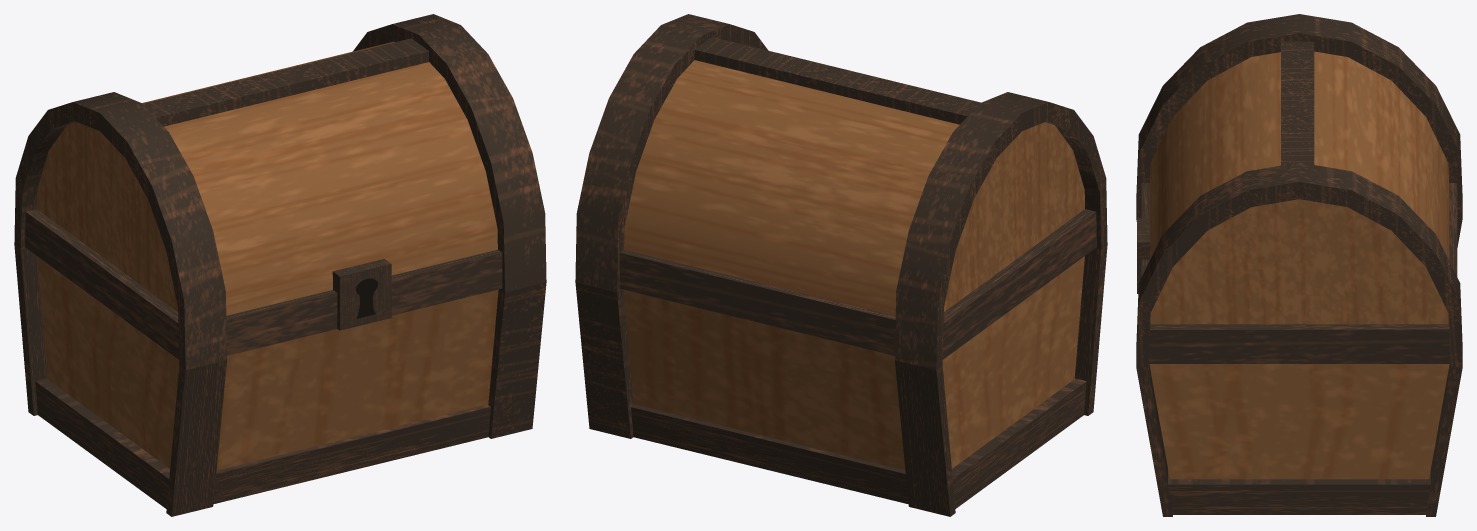
The model's file is Chest.fbx.
3 views of the same model, side by side, from view 1: azimuth 30°, elevation 25°; view 2: azimuth 150°, elevation 25°; view 3: azimuth 270°, elevation 25° (orthographic). The views are drawn at different scales.
Parts seen in each view (by area): view 1: box_top, box_bott, sideBeam_top1, beam_mid, sideBeam_top2, beam_bott, sideBeam1, beam_top, side_Beam2, lock; view 2: box_top, box_bott, beam_mid, sideBeam_top1, sideBeam_top2, beam_bott, sideBeam1, beam_top, side_Beam2; view 3: box_top, box_bott, sideBeam_top2, sideBeam_top1, beam_mid, beam_bott, beam_top, side_Beam2, lock.
Part boxes in pixels (<box>): box_top: <box>37,41,497,315</box>; box_bott: <box>37,256,498,470</box>; sideBeam_top1: <box>14,92,226,370</box>; beam_mid: <box>25,209,502,359</box>; sideBeam_top2: <box>353,14,546,292</box>; beam_bott: <box>35,378,490,508</box>; sideBeam1: <box>14,245,226,516</box>; beam_top: <box>143,38,428,126</box>; side_Beam2: <box>488,282,546,438</box>; lock: <box>332,259,391,330</box>; box_top: <box>624,60,1084,315</box>; box_bott: <box>623,256,1084,470</box>; beam_mid: <box>619,209,1096,359</box>; sideBeam_top1: <box>895,92,1107,370</box>; sideBeam_top2: <box>575,14,768,292</box>; beam_bott: <box>631,378,1086,508</box>; sideBeam1: <box>895,245,1107,516</box>; beam_top: <box>694,37,980,124</box>; side_Beam2: <box>575,282,633,438</box>; box_top: <box>1149,51,1449,324</box>; box_bott: <box>1149,364,1449,479</box>; sideBeam_top2: <box>1136,162,1462,367</box>; sideBeam_top1: <box>1136,14,1462,218</box>; beam_mid: <box>1141,183,1457,363</box>; beam_bott: <box>1168,469,1430,514</box>; beam_top: <box>1281,41,1314,165</box>; side_Beam2: <box>1136,364,1462,516</box>; lock: <box>1137,218,1150,293</box>.
Size of the model in its own units: 1072 by 998 by 881.
